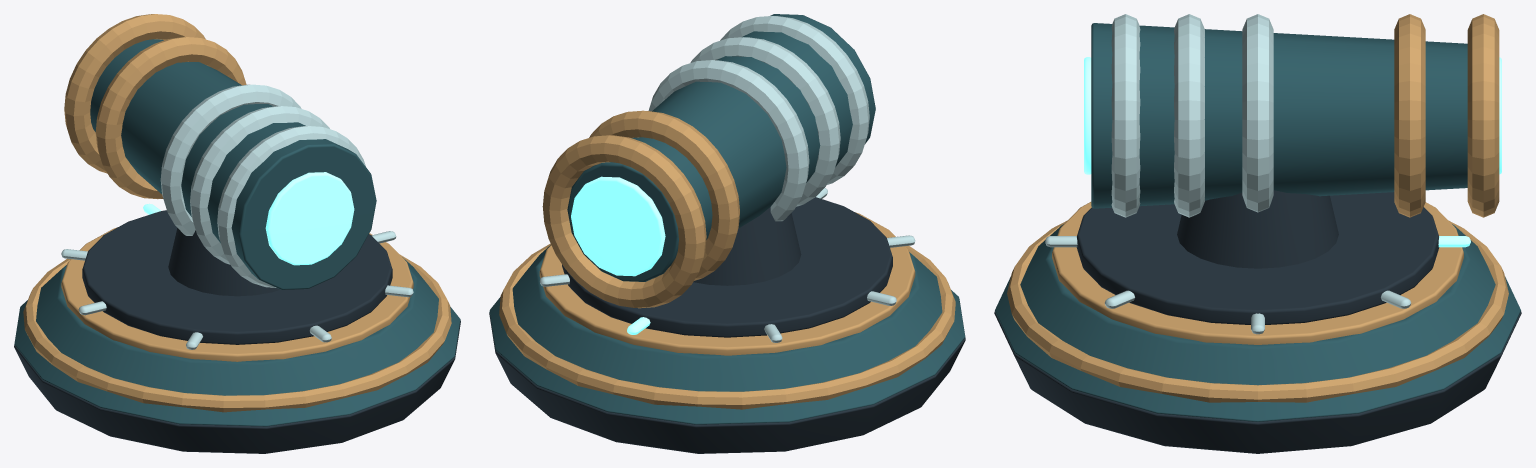
File: conduit.glb
3 renders of one model, left to right at view 1: azimuth 30°, elevation 25°; view 2: azimuth 150°, elevation 25°; view 3: azimuth 270°, elevation 25°, orthographic. The views are drawn at different scales.
Parts seen in each view (by area): view 1: conduit; view 2: conduit; view 3: conduit.
Part boxes in pixels (x1,y1,x2,y2): conduit: (14, 14, 460, 453); conduit: (489, 14, 965, 453); conduit: (994, 14, 1521, 453).
Bounding box in the file's own units: 1.08 × 0.738 × 1.08.
